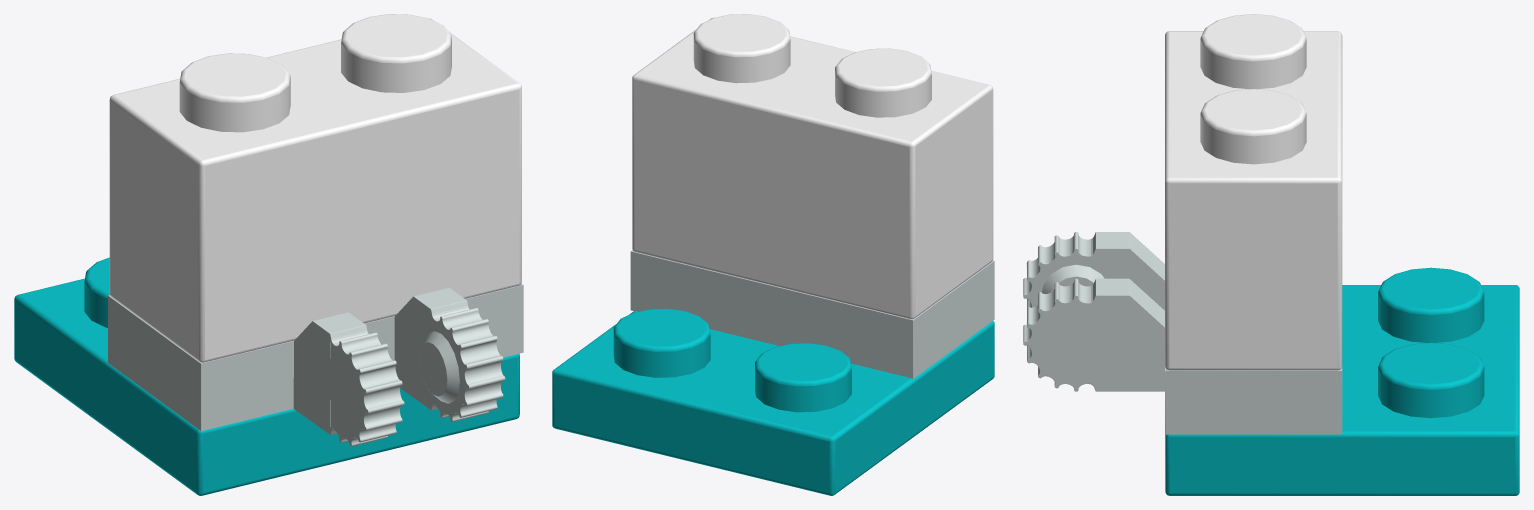
The model's file is Passo39.fbx.
3 views of the same model, side by side, from view 1: azimuth 30°, elevation 25°; view 2: azimuth 150°, elevation 25°; view 3: azimuth 270°, elevation 25° (orthographic). The views are drawn at different scales.
Parts seen in each view (by area): view 1: Brick_1x2, Hinge_plate.001, Plate_2x2.001; view 2: Brick_1x2, Plate_2x2.001, Hinge_plate.001; view 3: Brick_1x2, Plate_2x2.001, Hinge_plate.001.
Boxes of the visible parts, x1=… form: Brick_1x2: x1=109, y1=14, x2=521, y2=362; Hinge_plate.001: x1=108, y1=284, x2=523, y2=446; Plate_2x2.001: x1=14, y1=257, x2=519, y2=495; Brick_1x2: x1=632, y1=14, x2=993, y2=319; Plate_2x2.001: x1=552, y1=308, x2=994, y2=495; Hinge_plate.001: x1=630, y1=250, x2=994, y2=378; Brick_1x2: x1=1165, y1=14, x2=1342, y2=370; Plate_2x2.001: x1=1165, y1=267, x2=1519, y2=495; Hinge_plate.001: x1=1023, y1=232, x2=1342, y2=434.
Size of the model in its own units: 0.1609 by 0.1748 by 0.2241.
